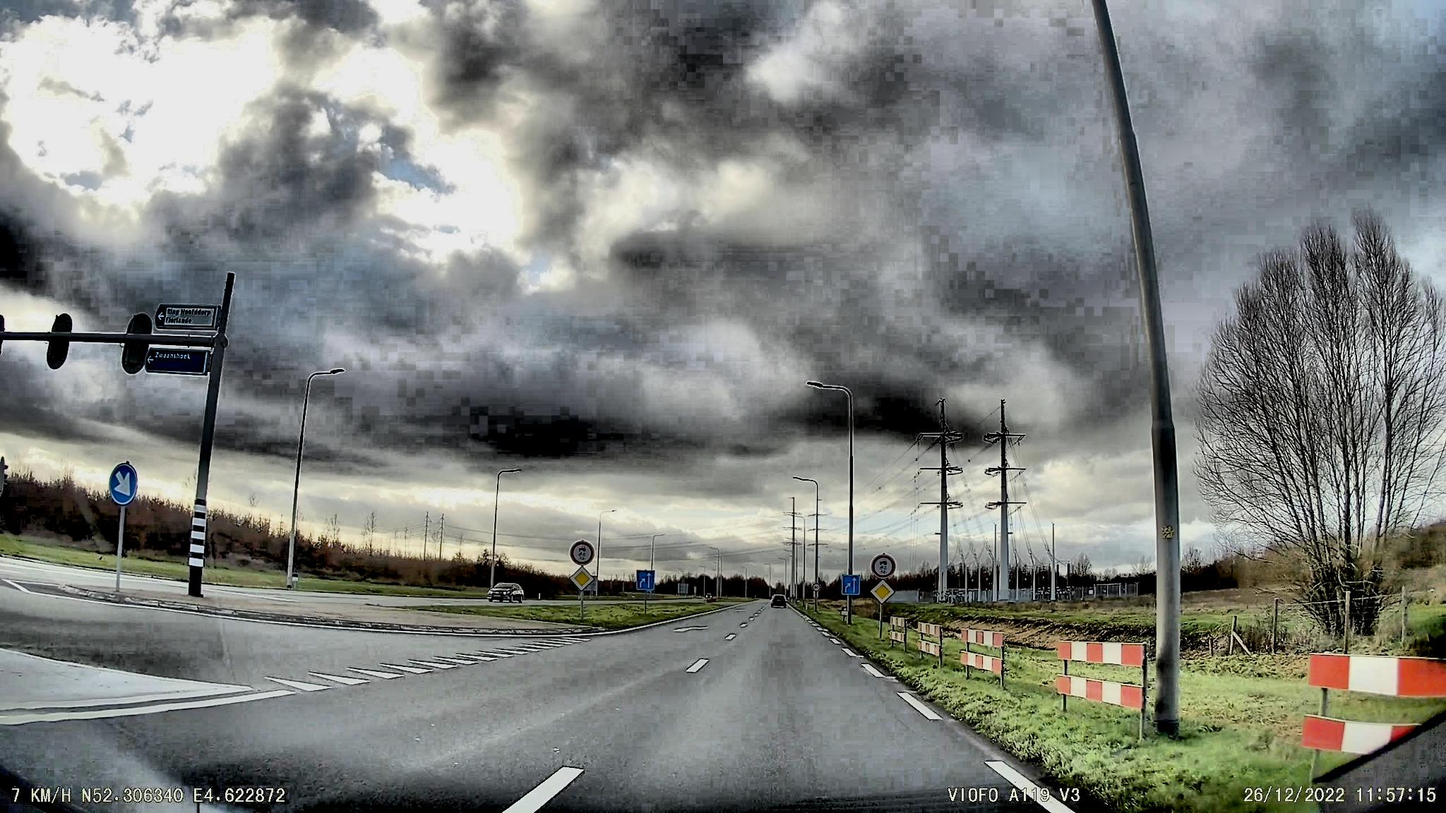Roads: (0, 594, 1112, 813)
